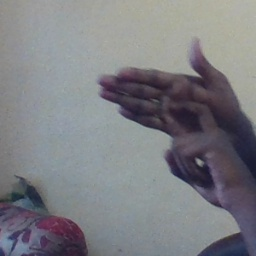R: (96, 34, 234, 183)
